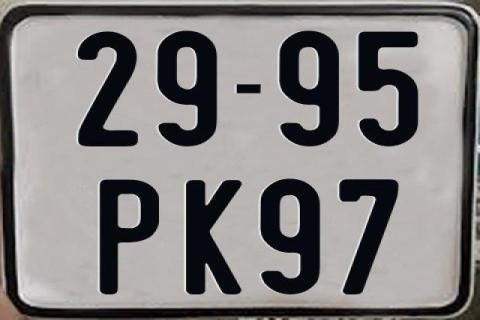0: (336, 178, 402, 298), (276, 28, 341, 146), (356, 29, 421, 145), (157, 31, 221, 147), (260, 177, 322, 295), (77, 31, 138, 149)
K: (185, 180, 245, 296)
P: (99, 180, 162, 298)
